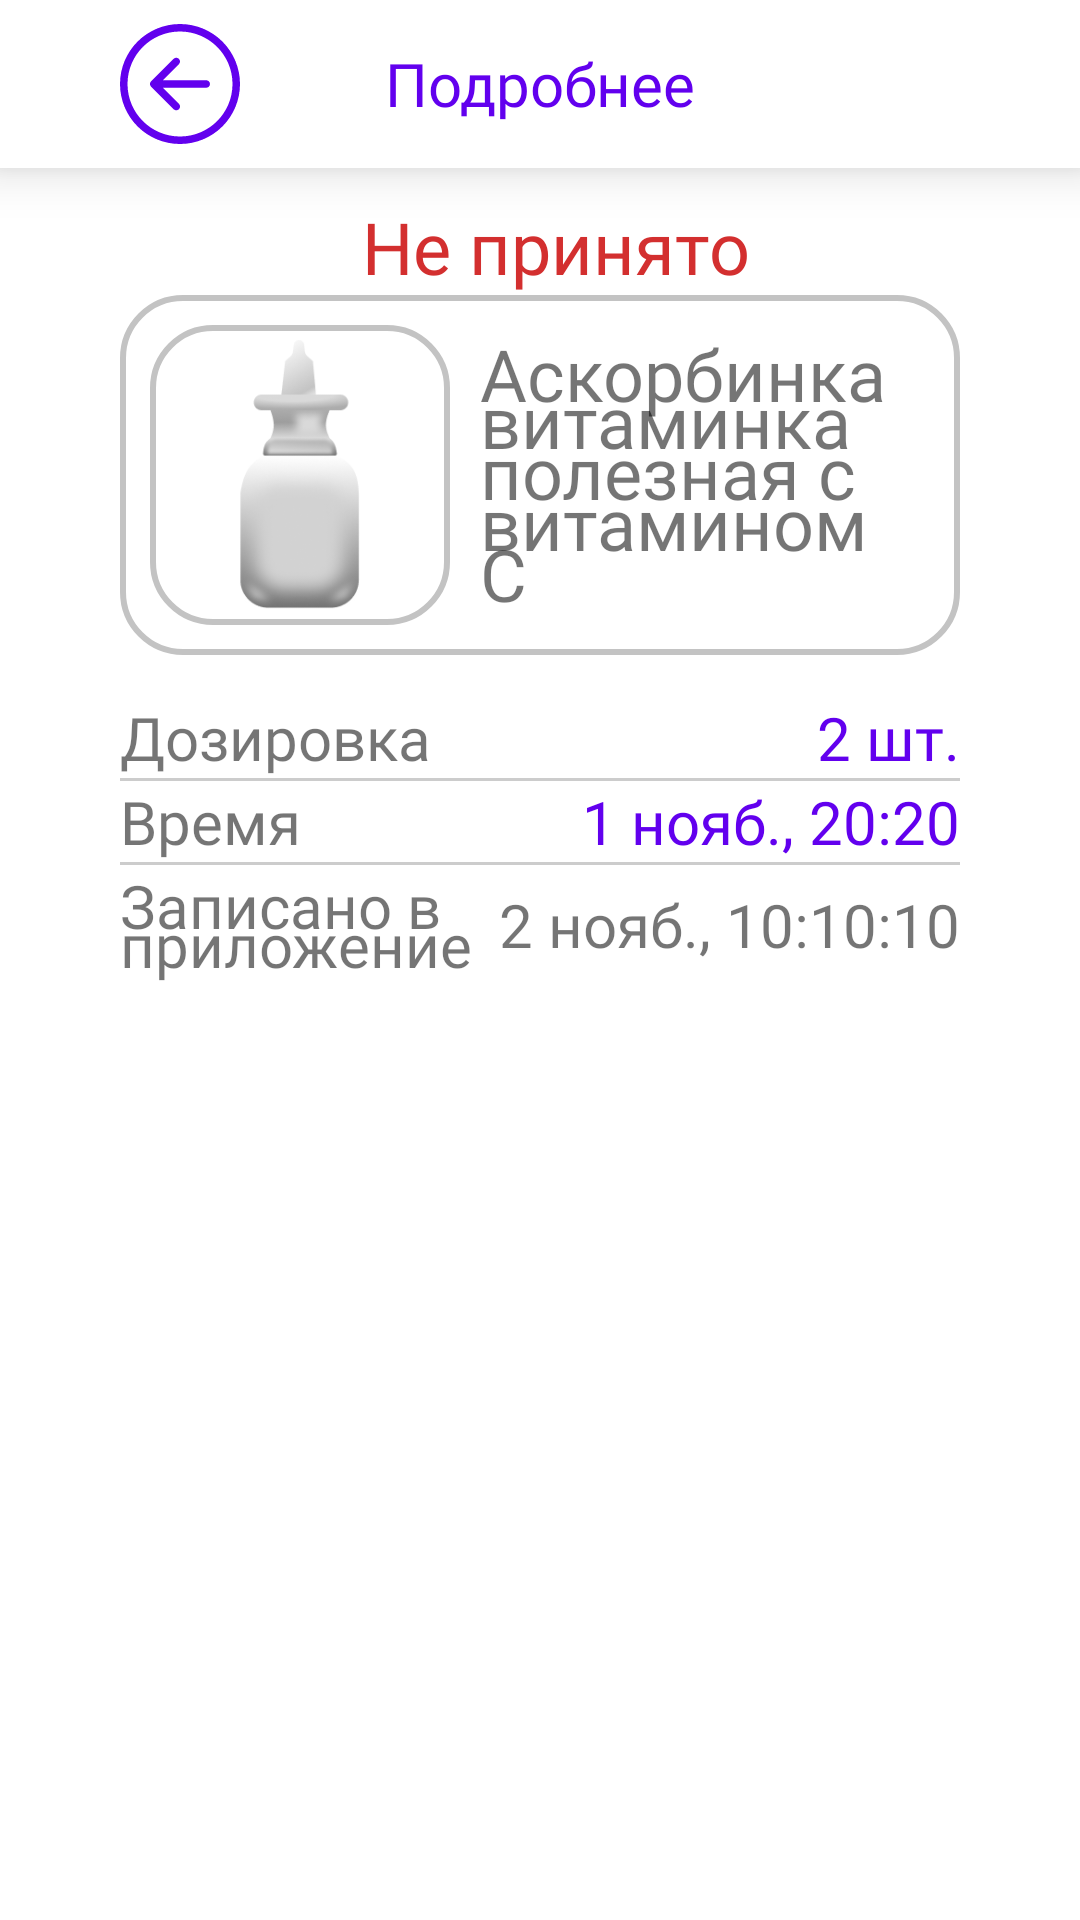

Icon bounding boxes for this 1080w x 1920h phone screenshot, format bbox=(x1, y1, x2, y2):
arrow left circle: bbox=(120, 24, 240, 144)
картинка спрей: bbox=(240, 353, 359, 608)
